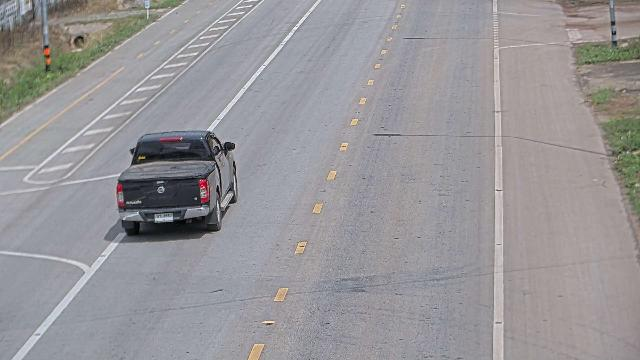pickup-truck: (115, 129, 238, 236)
